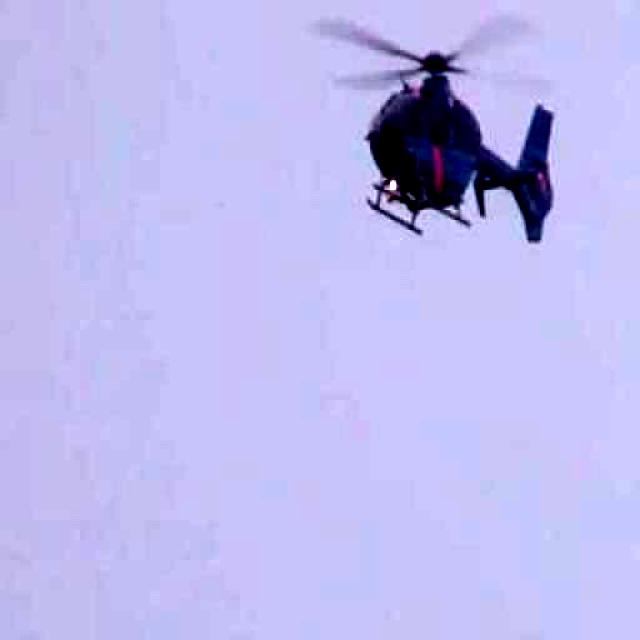drone: (272, 0, 614, 266)
